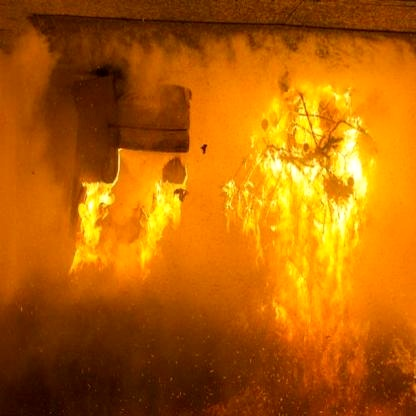fire: (57, 69, 388, 331)
